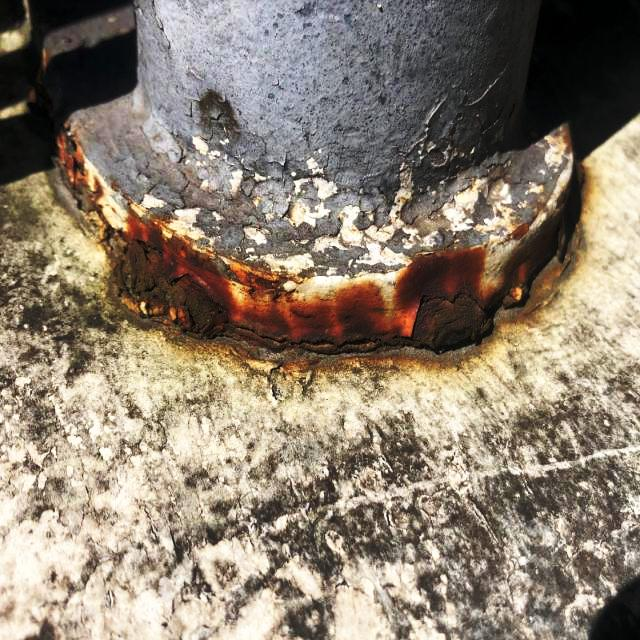Corrosion: (49, 123, 564, 357)
